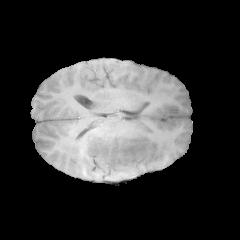glioma: (64, 116, 152, 169)
